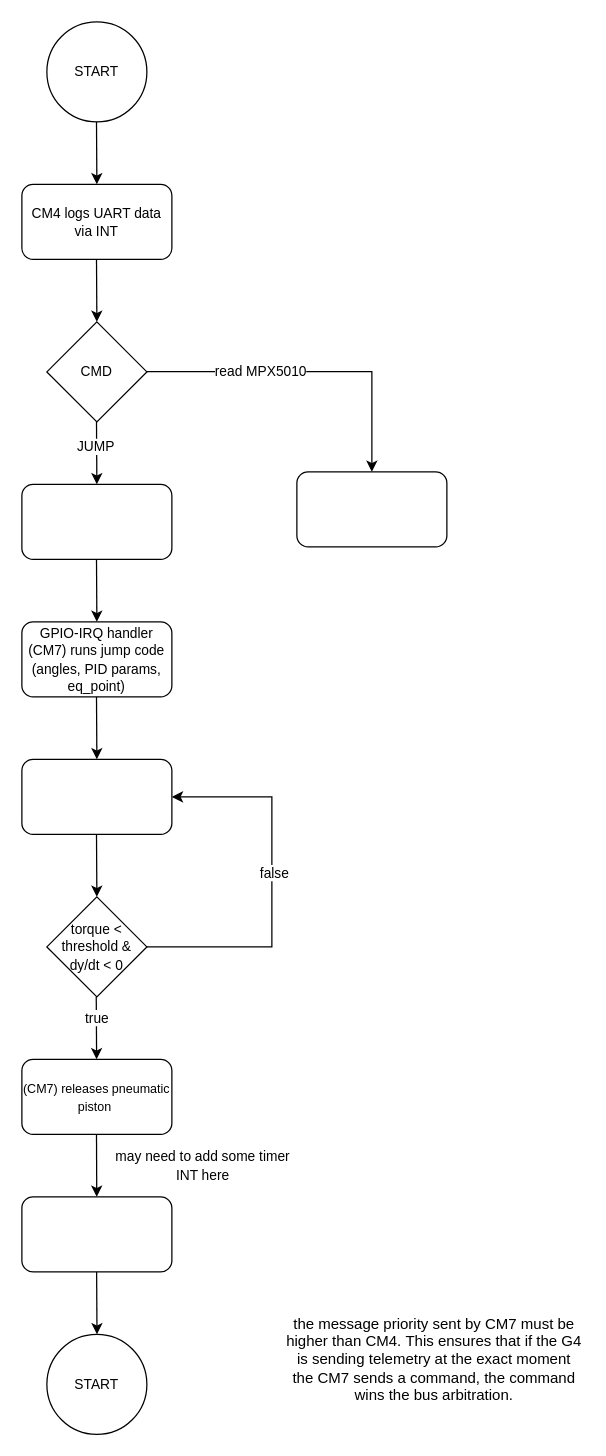
The diagram is 606 pixels wide and 1456 high, and some of its shapes have lost their labels. The box of each missing label's shape, as (x1, y1, x2, y2) in pixels:
(CM4) stores air pressure value: (296, 471, 447, 547)
(CM7) FDCAN send new Kp & Kd value to STM32G4, also retract pneumatic piston: (21, 1196, 172, 1272)
(CM7) FDCAN telemetry from STM32G4 moteus: (21, 758, 172, 834)
turn on GPIO (CM4/CM7): (21, 483, 172, 559)
